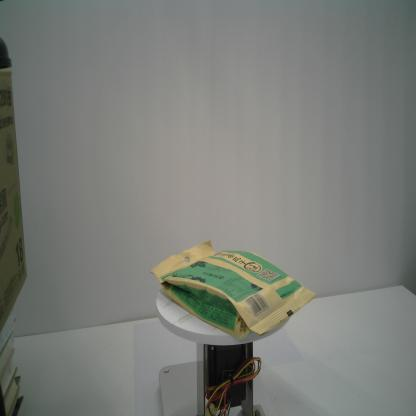Dried Food: (148, 238, 318, 342)
